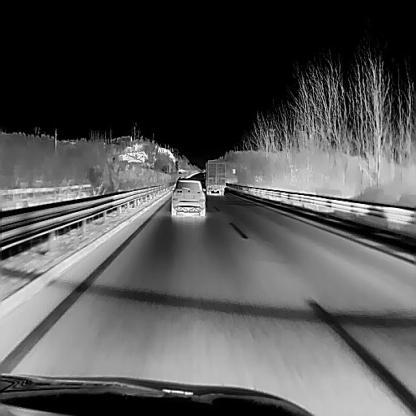car: (170, 176, 205, 216), (204, 159, 226, 195)
